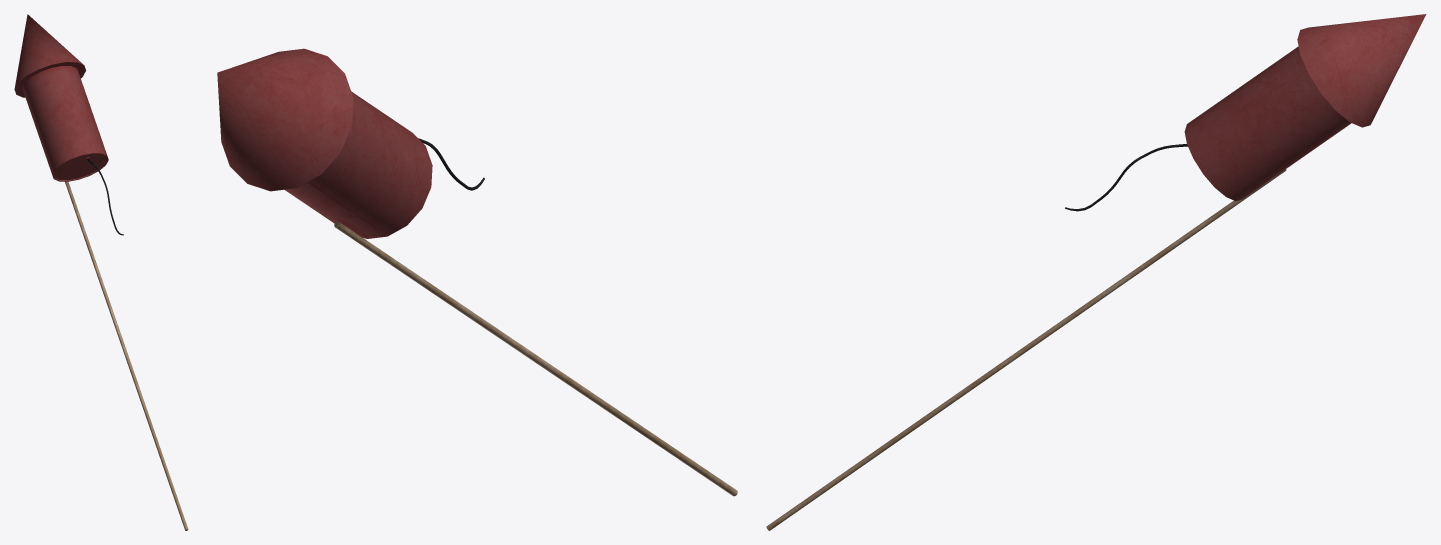
Rendered from fireworks_rocket.glb.
3 renders of one model, left to right at view 1: azimuth 30°, elevation 25°; view 2: azimuth 150°, elevation 25°; view 3: azimuth 270°, elevation 25°, orthographic. The views are drawn at different scales.
Visible parts, largest first — view 1: rckt_0; view 2: rckt_0; view 3: rckt_0.
Boxes of the visible parts, left/top/right/bottom form: rckt_0: left=14, top=14, right=188, bottom=530; rckt_0: left=217, top=48, right=737, bottom=496; rckt_0: left=766, top=14, right=1426, bottom=530.
Bounding box in the file's own units: 0.78 × 3.39 × 3.66.
1 material, 1 textured.
